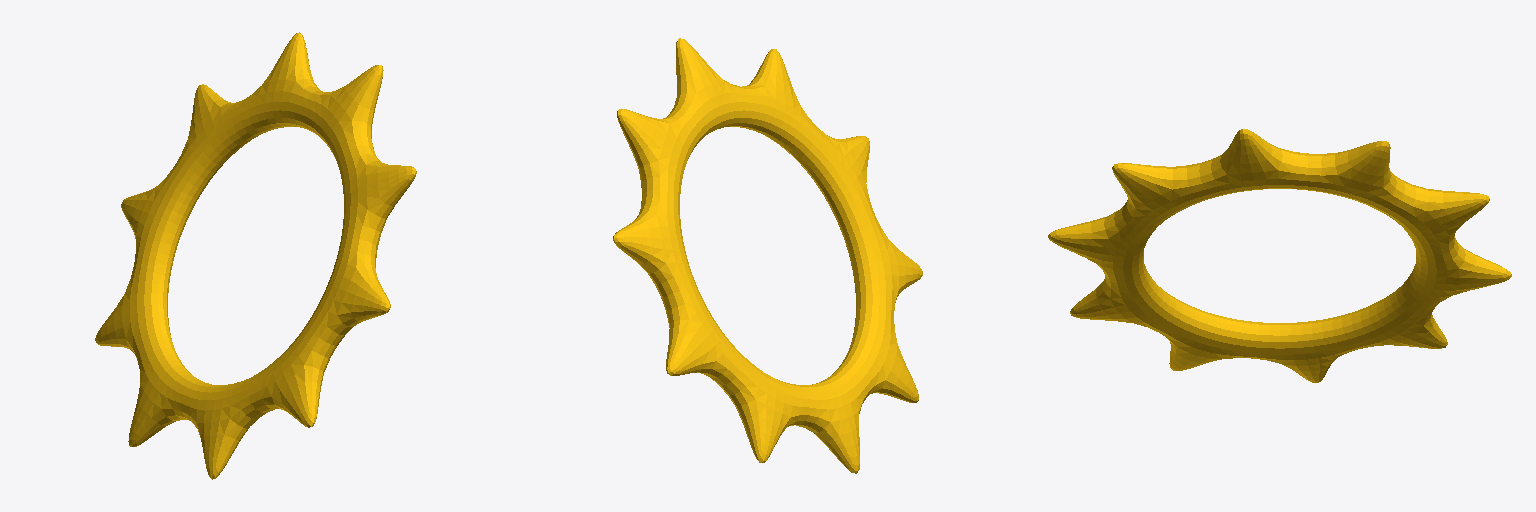
3 renders of one model, left to right at view 1: azimuth 30°, elevation 25°; view 2: azimuth 150°, elevation 25°; view 3: azimuth 270°, elevation 25°, orthographic.
Parts seen in each view (by area): view 1: Object.1; view 2: Object.1; view 3: Object.1.
Part boxes in pixels (x1,y1,x2,y2): Object.1: (95,32,416,479); Object.1: (613,38,922,473); Object.1: (1048,129,1511,382).
Bounding box in the file's own units: 0.2763 × 0.4332 × 0.512.
Materials: 1 (1 with a texture image).